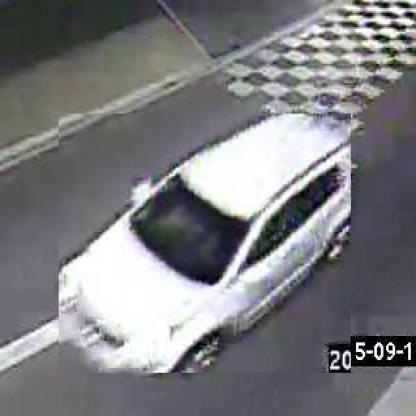car: (60, 115, 353, 376)
